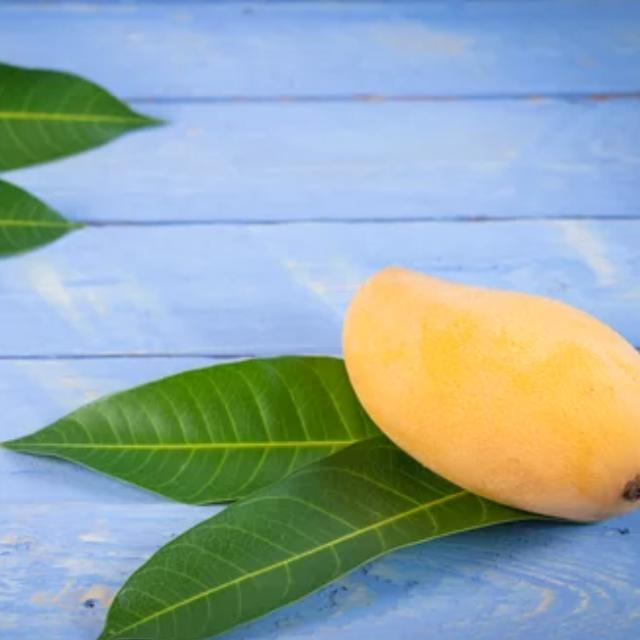mango: (340, 265, 640, 522)
